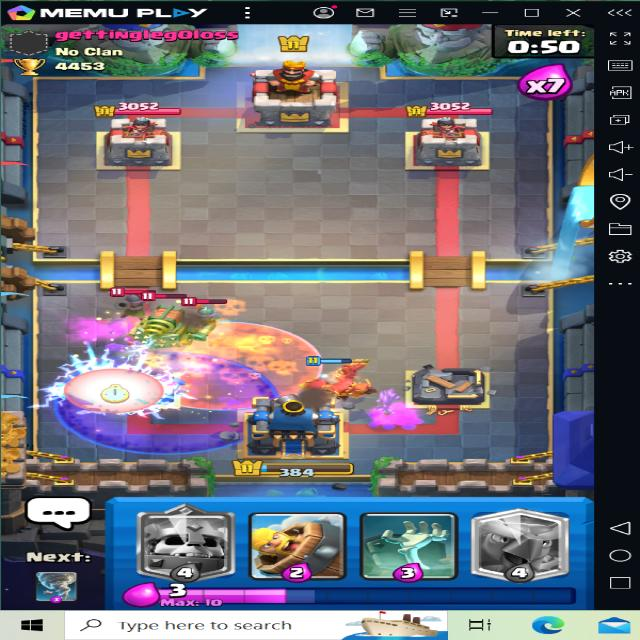musketeer: (189, 295, 231, 333), (115, 285, 152, 322)
sparky: (126, 296, 196, 352)
